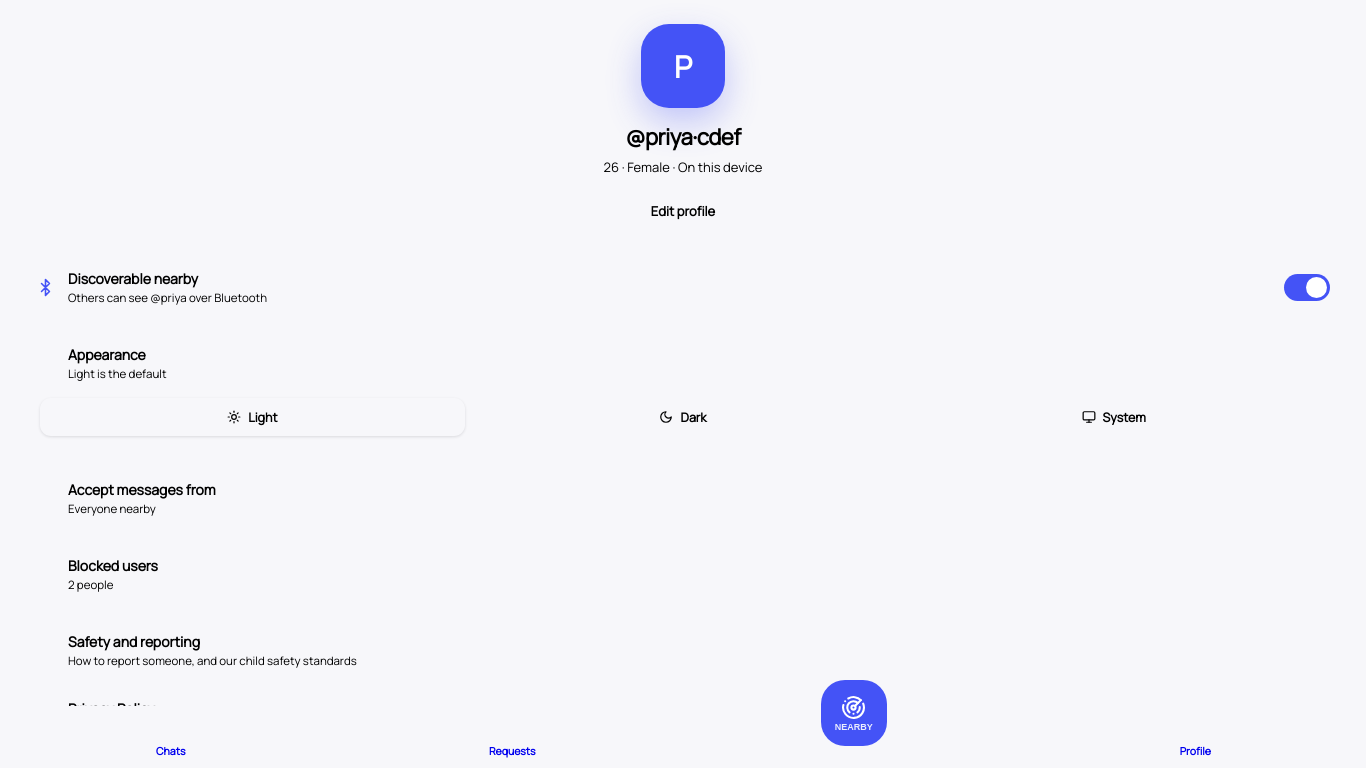
Test: ProfileScreen — changing the username › keeps the field to characters the core accepts
The width and height of the screenshot is (1366, 768).
Click the button "Edit profile" at (683,211), box [631,190,735,232]
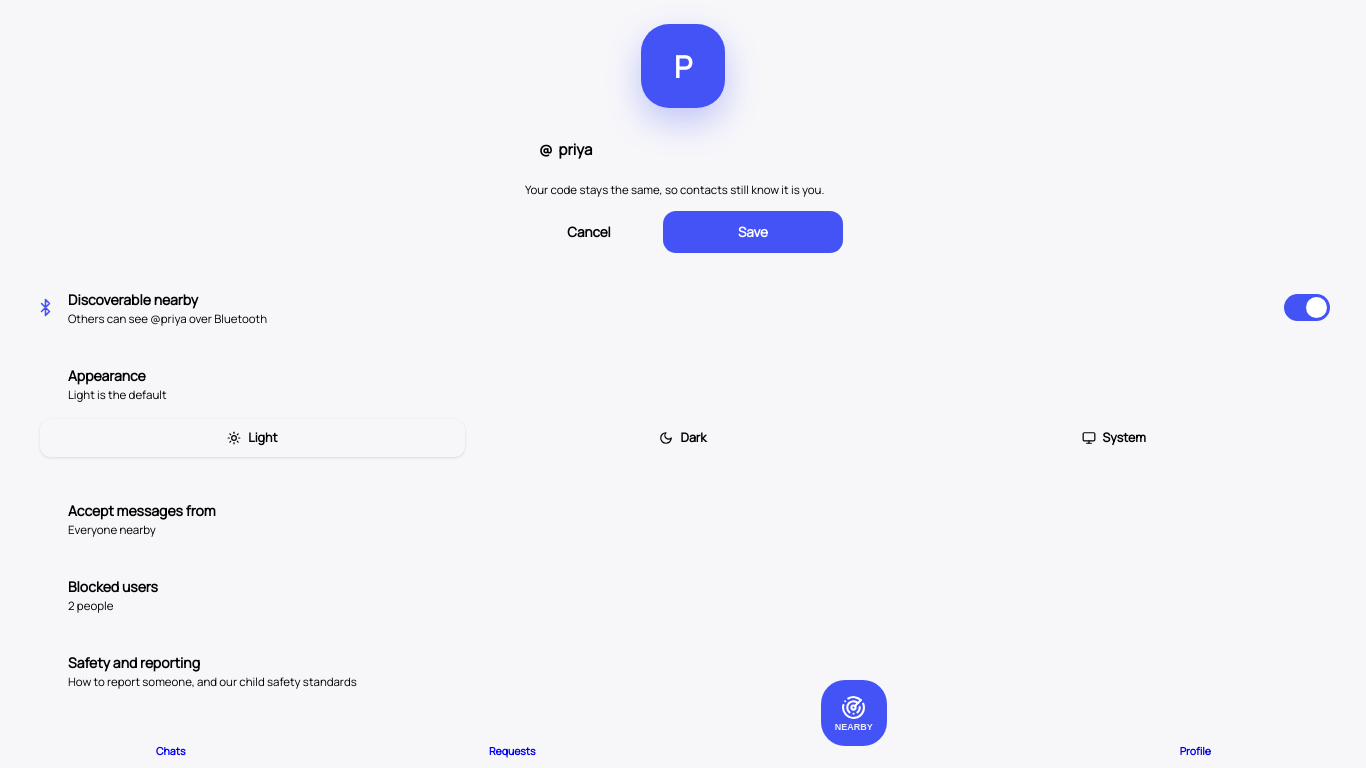
Replace the text in the field named "Username" with "Priya S!" at (692,149), box [557,138,827,160]
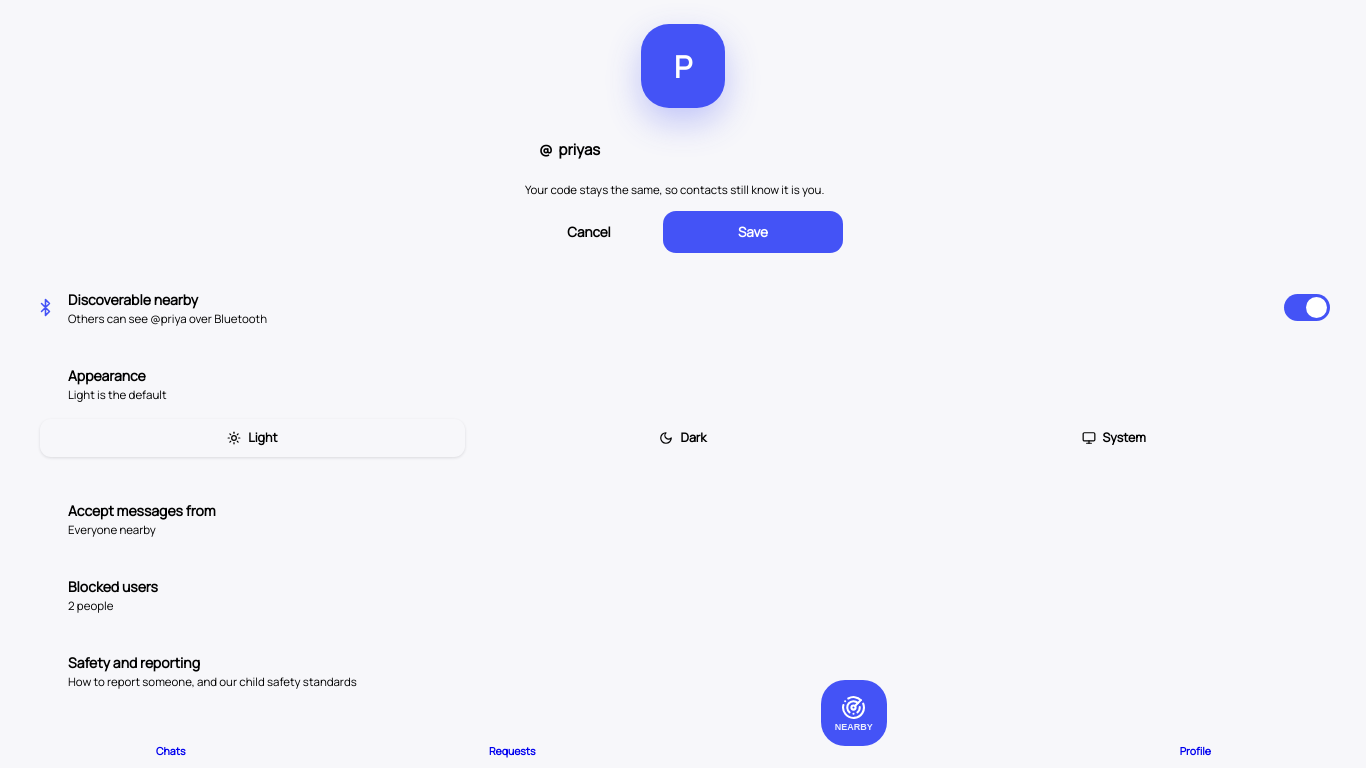
Check: the field named "Username" holds "priyas", box [557,138,827,160]
